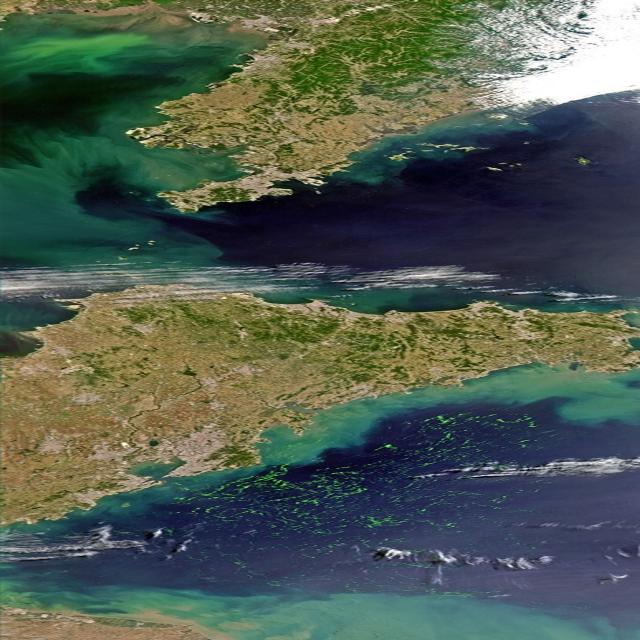algal: (0, 15, 256, 268), (259, 366, 639, 464), (150, 591, 629, 639)
